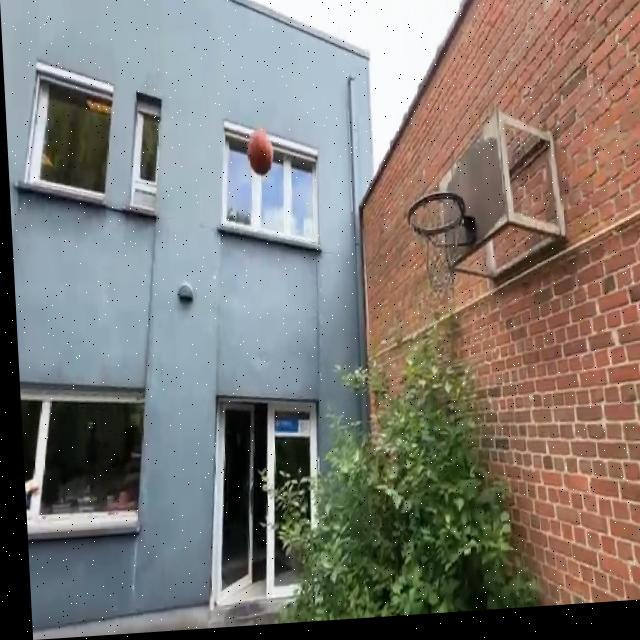Basketball: (245, 128, 274, 177)
